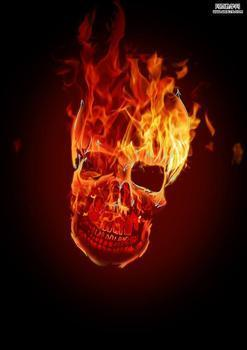fire: (84, 52, 184, 122)
